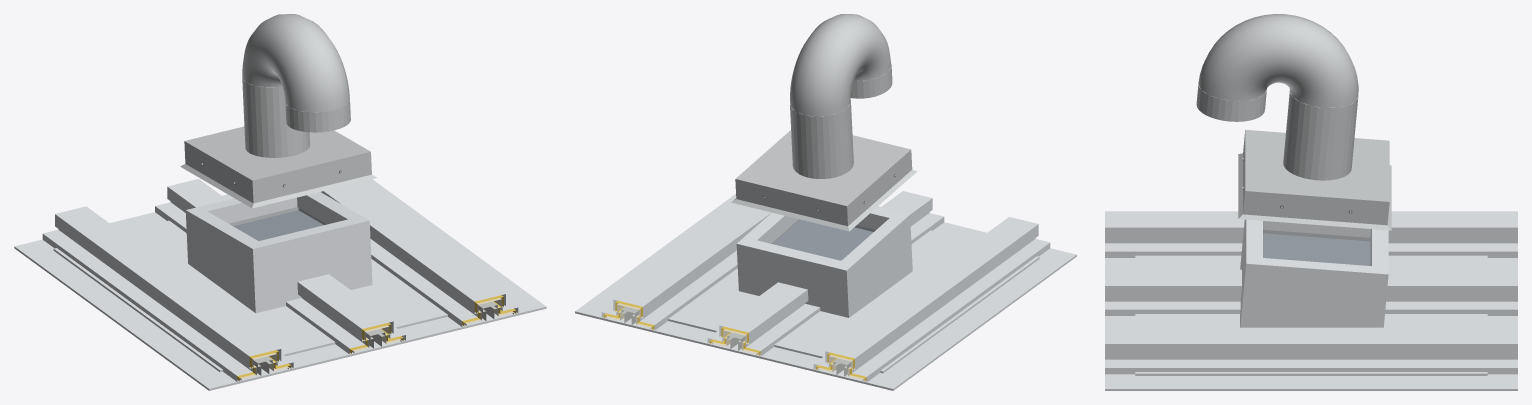
File: metal-curb-vent-sseam-1in12-CS-13-MP.glb
The picture shows the model from 3 angles, left to right: view 1: azimuth 30°, elevation 25°; view 2: azimuth 150°, elevation 25°; view 3: azimuth 270°, elevation 25°; orthographic projection. The views are drawn at different scales.
Visible parts, largest first — view 1: topcoat__topcoat_apron_dn, topcoat__topcoat_curb_wrap, existing__unit_bend, topcoat__topcoat_apron_up, topcoat__topcoat_field_dn, topcoat__topcoat_curb_cap, topcoat__topcoat_apron_l, existing__unit_counterflashing_drop, existing__unit_counterflashing_top, existing__unit_neck, topcoat__topcoat_field_up, topcoat__topcoat_apron_r (+10 smaller); view 2: topcoat__topcoat_apron_up, existing__unit_bend, topcoat__topcoat_apron_dn, topcoat__topcoat_curb_cap, topcoat__topcoat_curb_wrap, existing__unit_counterflashing_top, topcoat__topcoat_field_up, topcoat__topcoat_apron_l, existing__unit_neck, existing__unit_counterflashing_drop, topcoat__topcoat_apron_r, topcoat__topcoat_field_dn (+10 smaller); view 3: topcoat__topcoat_apron_dn, topcoat__topcoat_apron_up, existing__unit_bend, topcoat__topcoat_curb_wrap, topcoat__topcoat_apron_r, existing__unit_counterflashing_top, existing__unit_neck, topcoat__topcoat_curb_cap, existing__unit_counterflashing_drop, topcoat__topcoat_field_up, topcoat__topcoat_field_dn, existing__curb_interior (+11 smaller).
Boxes of the visible parts, box(x1,y1,x2,y2) form: topcoat__topcoat_apron_dn: box(166, 244, 491, 372); topcoat__topcoat_curb_wrap: box(186, 212, 372, 313); existing__unit_bend: box(242, 14, 349, 112); topcoat__topcoat_apron_up: box(53, 183, 378, 289); topcoat__topcoat_field_dn: box(141, 257, 546, 390); topcoat__topcoat_curb_cap: box(185, 192, 369, 266); topcoat__topcoat_apron_l: box(107, 255, 251, 332); existing__unit_counterflashing_drop: box(184, 128, 371, 203); existing__unit_counterflashing_top: box(185, 126, 369, 180); existing__unit_neck: box(242, 79, 309, 157); topcoat__topcoat_field_up: box(14, 179, 418, 297); topcoat__topcoat_apron_r: box(349, 201, 437, 280); topcoat__topcoat_apron_up: box(627, 253, 933, 373); existing__unit_bend: box(790, 14, 891, 116); topcoat__topcoat_apron_dn: box(734, 201, 1039, 294); topcoat__topcoat_curb_cap: box(736, 207, 910, 285); topcoat__topcoat_curb_wrap: box(737, 228, 912, 317); existing__unit_counterflashing_top: box(736, 130, 911, 205); topcoat__topcoat_field_up: box(575, 265, 956, 390); topcoat__topcoat_apron_l: box(853, 263, 989, 336); existing__unit_neck: box(790, 100, 853, 178); existing__unit_counterflashing_drop: box(735, 130, 912, 226); topcoat__topcoat_apron_r: box(677, 211, 762, 287); topcoat__topcoat_field_dn: box(695, 194, 1076, 302); topcoat__topcoat_apron_dn: box(1135, 211, 1248, 375); topcoat__topcoat_apron_up: box(1374, 211, 1487, 375); existing__unit_bend: box(1198, 14, 1358, 107); topcoat__topcoat_curb_wrap: box(1240, 222, 1387, 327); topcoat__topcoat_apron_r: box(1248, 327, 1374, 375); existing__unit_counterflashing_top: box(1245, 129, 1389, 201); existing__unit_neck: box(1283, 91, 1358, 180); topcoat__topcoat_curb_cap: box(1244, 219, 1388, 288); existing__unit_counterflashing_drop: box(1243, 130, 1389, 225); topcoat__topcoat_field_up: box(1374, 258, 1517, 390); topcoat__topcoat_field_dn: box(1105, 258, 1248, 390); existing__curb_interior: box(1263, 233, 1370, 265).
Size of the model in its own units: 1.83 by 1.4 by 1.83.
